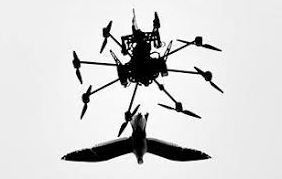Bird: (60, 112, 213, 165)
Drone: (68, 6, 224, 108)
